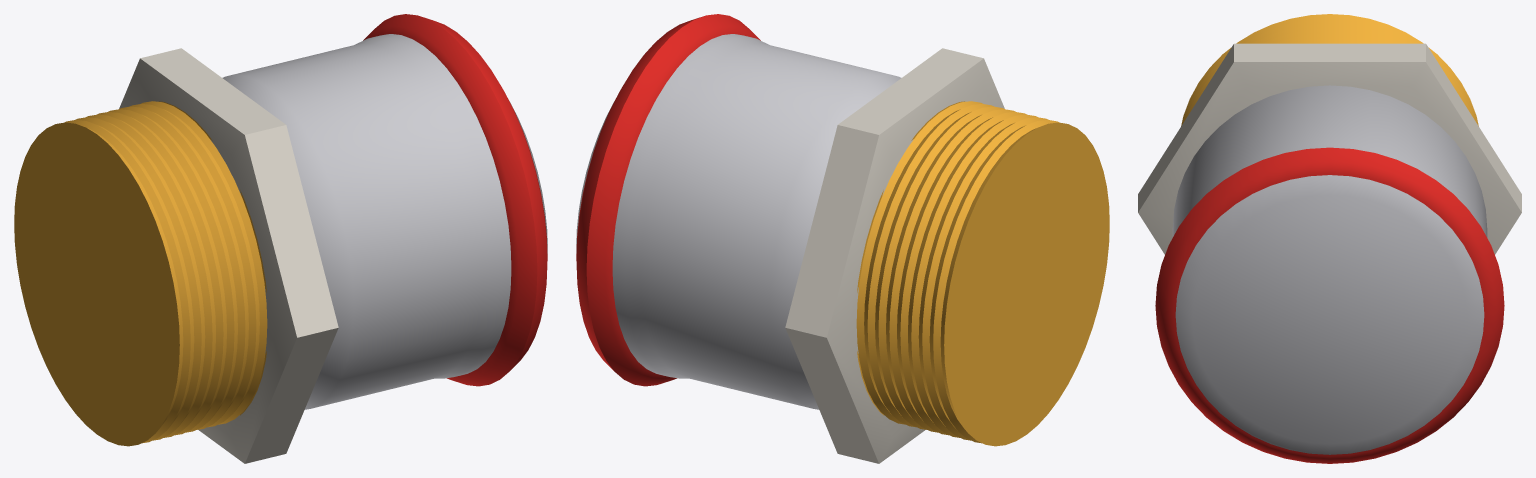
File: fitting_adp_35x114_M_r.glb
3 views of the same model, side by side, from view 1: azimuth 30°, elevation 25°; view 2: azimuth 150°, elevation 25°; view 3: azimuth 270°, elevation 25° (orthographic). The views are drawn at different scales.
Parts seen in each view (by area): view 1: резьба НР, раструб, шестигранник переходника, кольцо пресс; view 2: резьба НР, раструб, шестигранник переходника, кольцо пресс; view 3: раструб, шестигранник переходника, кольцо пресс, резьба НР.
Part boxes in pixels (x1,y1,x2,y2): резьба НР: (14,101,267,446); раструб: (222,34,547,409); шестигранник переходника: (119,48,338,463); кольцо пресс: (363,14,547,386); резьба НР: (856,101,1109,446); раструб: (576,34,901,409); шестигранник переходника: (785,48,1004,463); кольцо пресс: (576,14,760,386); раструб: (1172,85,1487,454); шестигранник переходника: (1138,43,1521,254); кольцо пресс: (1155,147,1504,463); резьба НР: (1181,14,1478,126).
Bounding box in the file's own units: 0.055 × 0.0483 × 0.0531.
